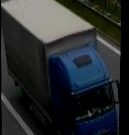truck: (0, 0, 122, 135)
